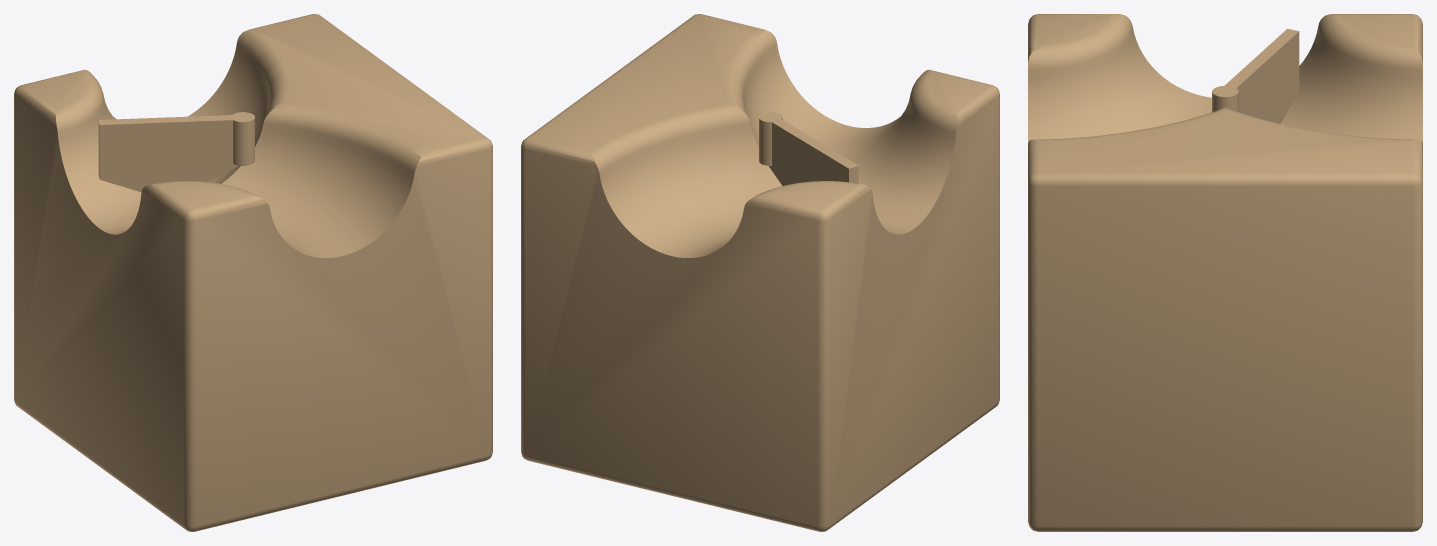
Rendered from mech_toggle_l3.glb.
3 renders of one model, left to right at view 1: azimuth 30°, elevation 25°; view 2: azimuth 150°, elevation 25°; view 3: azimuth 270°, elevation 25°, orthographic. The views are drawn at different scales.
Parts seen in each view (by area): view 1: mech_toggle_l3_lod0, anim_rocker_lod0; view 2: mech_toggle_l3_lod0, anim_rocker_lod0; view 3: mech_toggle_l3_lod0, anim_rocker_lod0.
Part boxes in pixels (x1,y1,x2,y2): mech_toggle_l3_lod0: (14,14,492,531); anim_rocker_lod0: (98,112,254,192); mech_toggle_l3_lod0: (521,14,999,531); anim_rocker_lod0: (759,112,858,185); mech_toggle_l3_lod0: (1028,14,1422,531); anim_rocker_lod0: (1212,29,1299,123).
Size of what is drawn, in the model's own units: 0.059 by 0.059 by 0.059.
